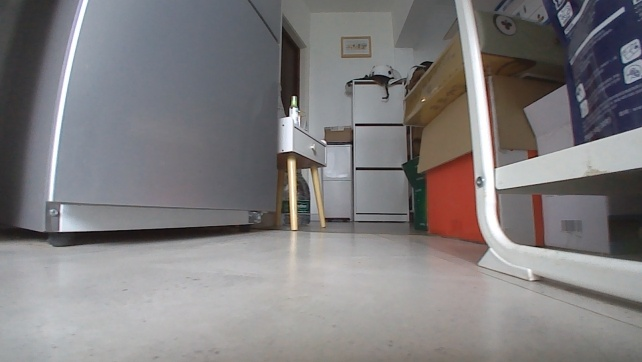refrigerator1: (0, 0, 280, 244)
